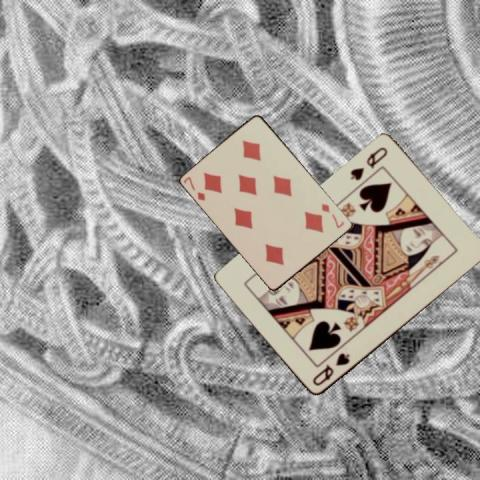7d: (319, 200, 346, 230), (180, 173, 206, 203)
Qs: (348, 144, 390, 183), (310, 350, 352, 388)
